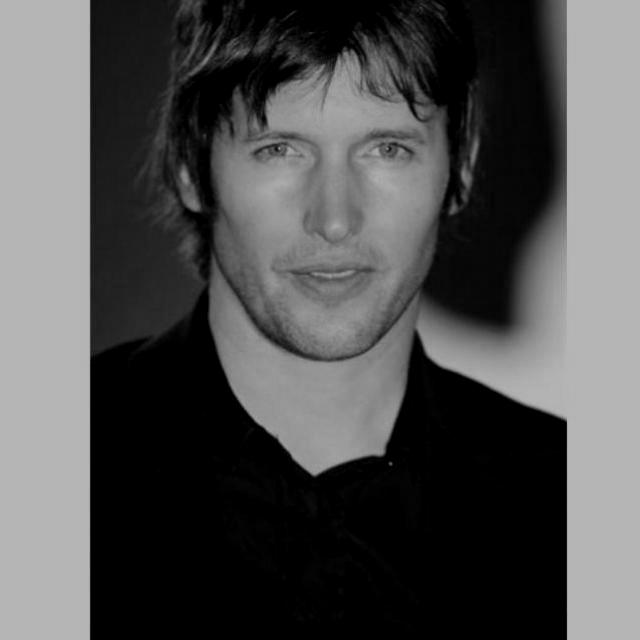real: (156, 42, 484, 366)
